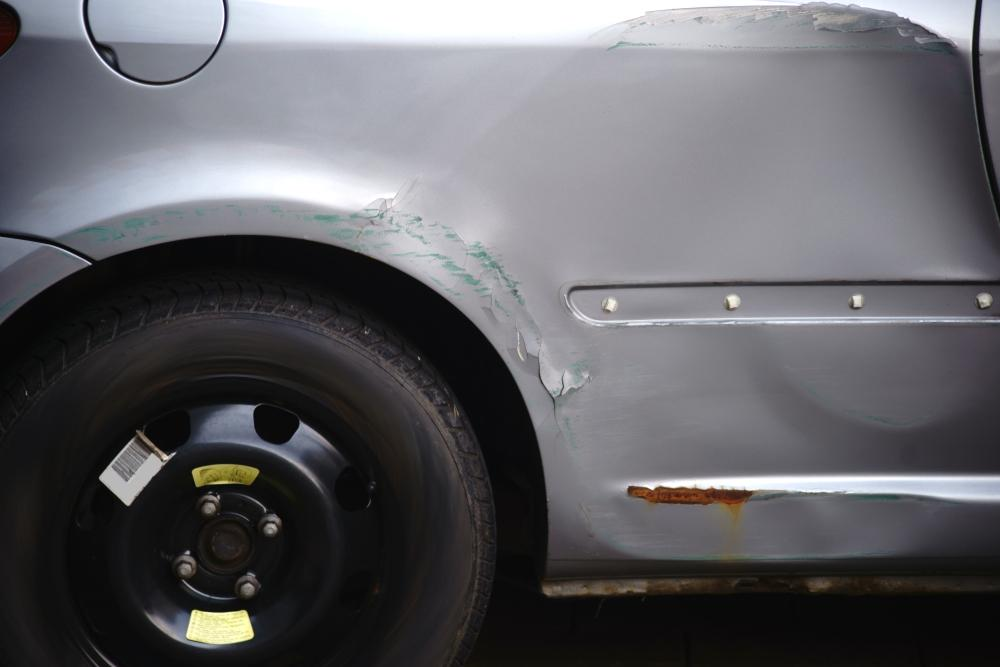dent: (405, 34, 1000, 440), (598, 475, 949, 563)
scratch: (309, 199, 598, 426), (588, 0, 936, 58)
